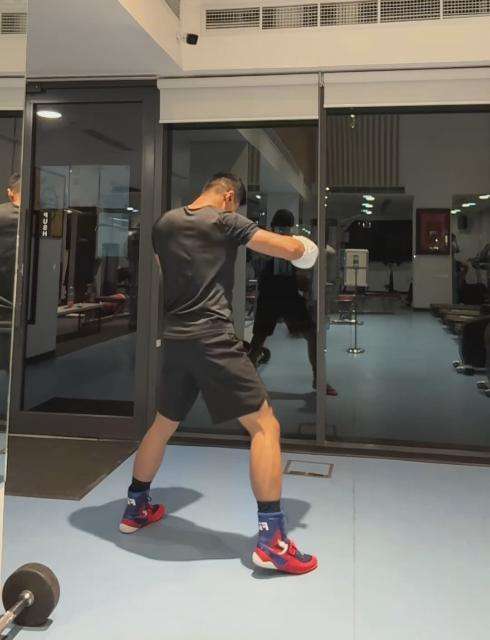punch: (116, 169, 322, 579)
